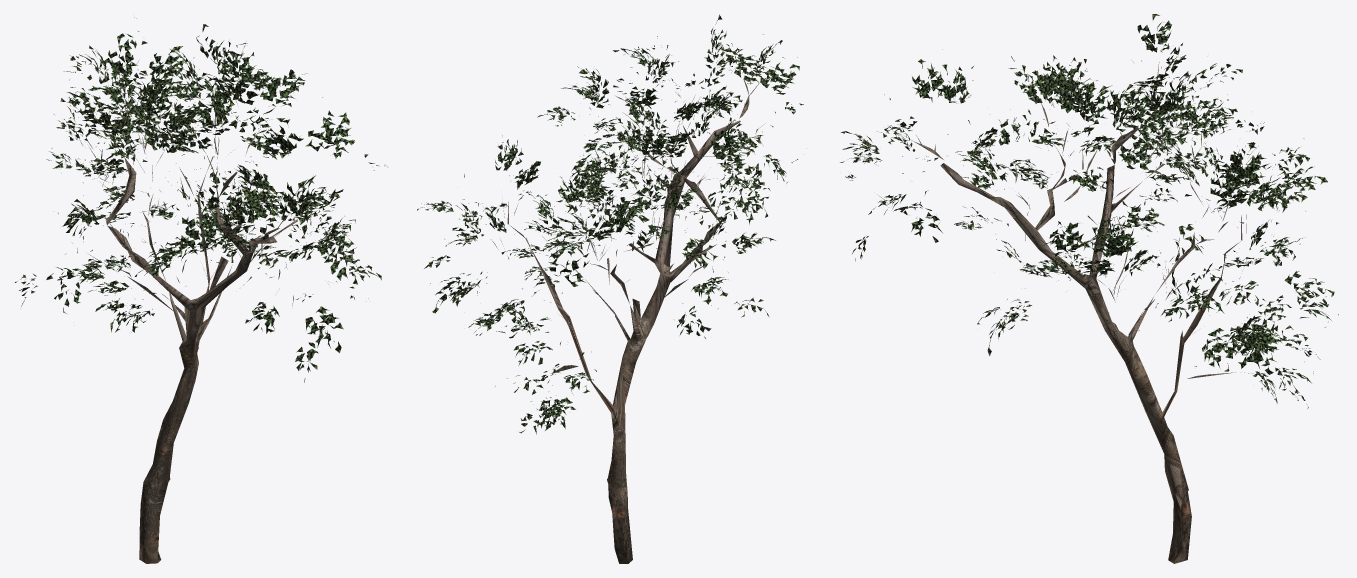
File: tree_small_02.glb
The picture shows the model from 3 angles, left to right: view 1: azimuth 30°, elevation 25°; view 2: azimuth 150°, elevation 25°; view 3: azimuth 270°, elevation 25°; orthographic projection. The views are drawn at different scales.
Parts seen in each view (by area): view 1: tree_small_02_LOD0; view 2: tree_small_02_LOD0; view 3: tree_small_02_LOD0.
Boxes of the visible parts, x1,y1,x2,y2 form: tree_small_02_LOD0: (15, 17, 387, 563); tree_small_02_LOD0: (417, 14, 806, 563); tree_small_02_LOD0: (840, 14, 1338, 563).
Size of the model in its own units: 2.89 by 4.53 by 4.07.
3 materials, 3 textured.
